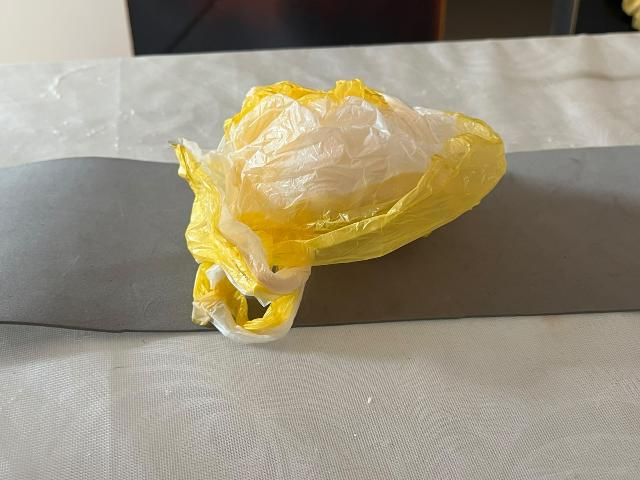LDPE: (152, 63, 532, 352)
